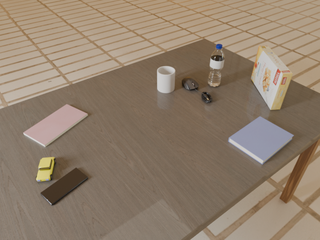book: (228, 116, 294, 164), (24, 104, 88, 147)
bottle: (208, 44, 224, 87)
box: (251, 45, 292, 110)
cup: (157, 66, 175, 93)
mouse: (182, 77, 199, 91)
phone: (41, 168, 88, 205)
toy_car: (36, 157, 56, 181)
